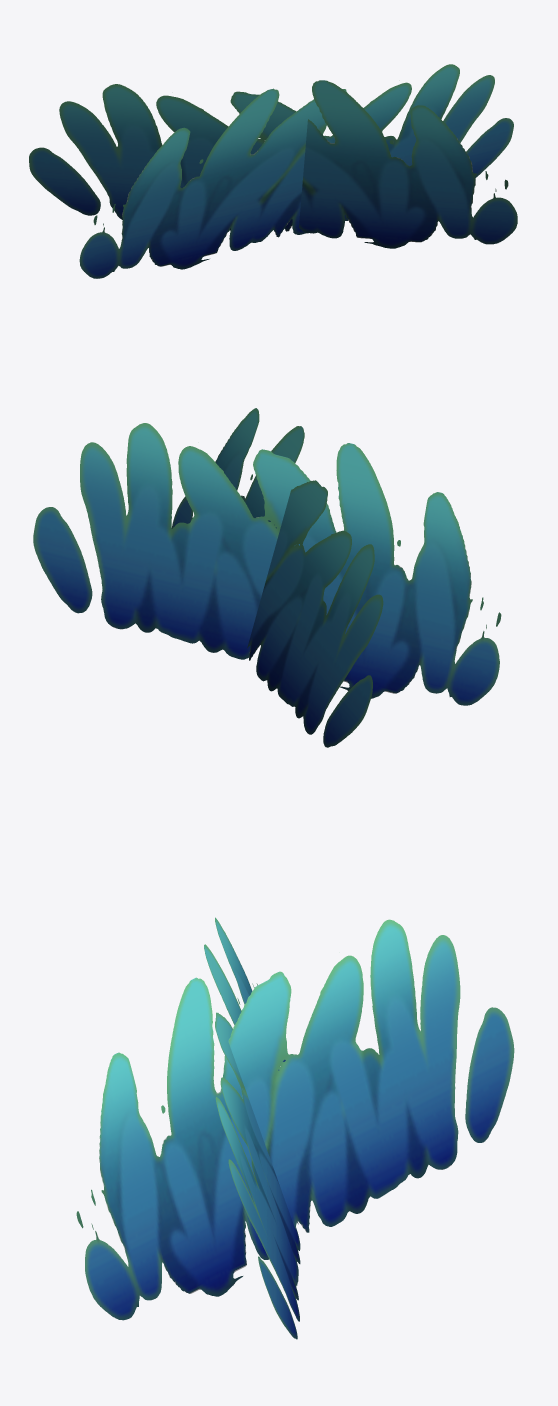
Rendered from Avatar_grass_03.fbx.
3 renders of one model, top to bottom at view 1: azimuth 30°, elevation 25°; view 2: azimuth 150°, elevation 25°; view 3: azimuth 270°, elevation 25°, orthographic. The views are drawn at different scales.
Visible parts, largest first — view 1: Avatar_grass_03; view 2: Avatar_grass_03; view 3: Avatar_grass_03.
Part boxes in pixels (left/top/right/bottom): Avatar_grass_03: left=29, top=64, right=517, bottom=278; Avatar_grass_03: left=33, top=408, right=501, bottom=747; Avatar_grass_03: left=76, top=917, right=514, bottom=1339.
Size of the model in its own units: 102 by 44.82 by 77.19.
